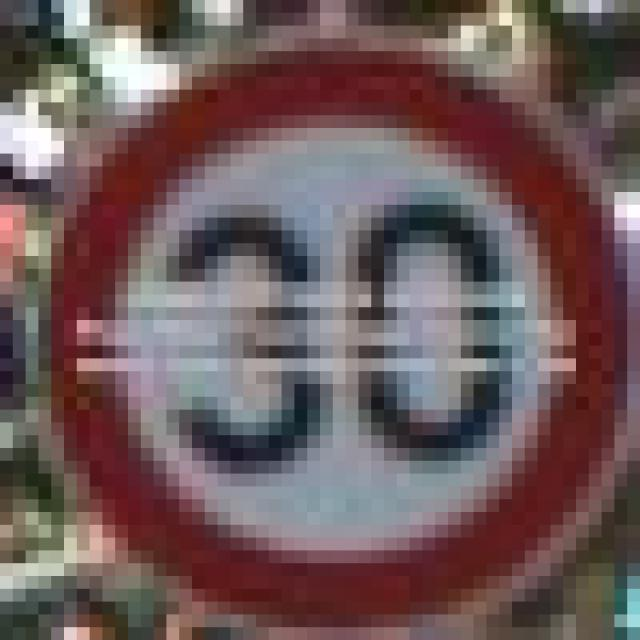SPEED_LIMIT_30: (26, 13, 627, 627)
